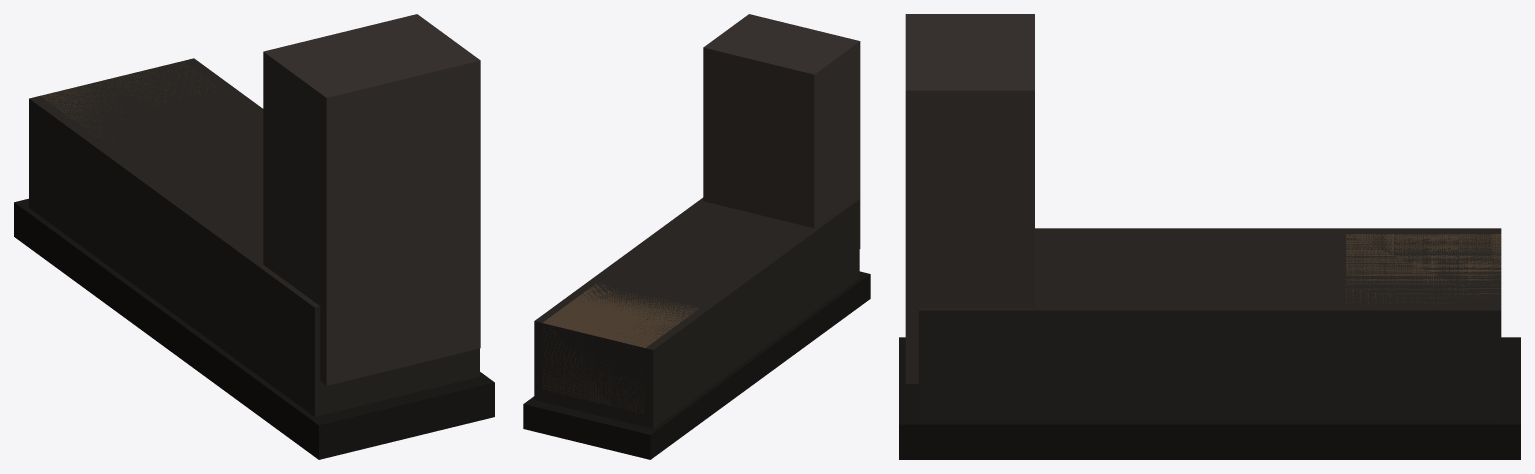
Rendered from boot.fbx.
The picture shows the model from 3 angles, left to right: view 1: azimuth 30°, elevation 25°; view 2: azimuth 150°, elevation 25°; view 3: azimuth 270°, elevation 25°; orthographic projection. The views are drawn at different scales.
Parts seen in each view (by area): view 1: boot; view 2: boot; view 3: boot.
Part boxes in pixels (left/top/right/bottom): boot: left=14, top=14, right=494, bottom=459; boot: left=523, top=14, right=870, bottom=459; boot: left=899, top=14, right=1520, bottom=459.
Size of the model in its own units: 0.32 by 0.62 by 0.96.
